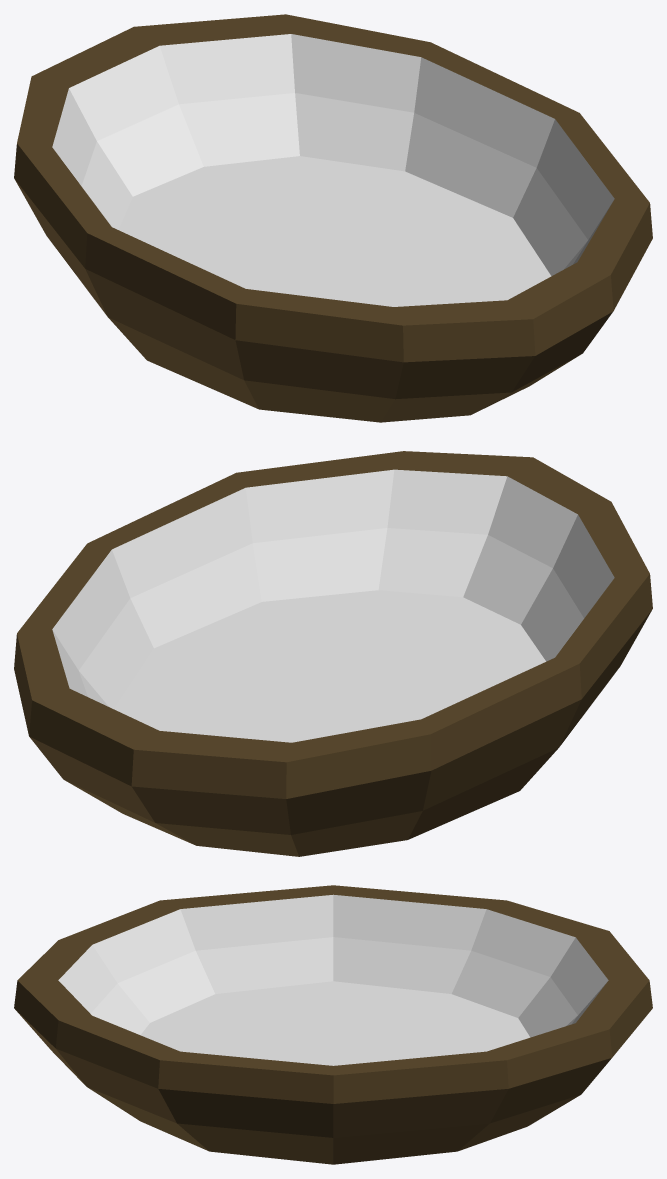
The model's file is boat.glb.
3 renders of one model, top to bottom at view 1: azimuth 30°, elevation 25°; view 2: azimuth 150°, elevation 25°; view 3: azimuth 270°, elevation 25°, orthographic. The views are drawn at different scales.
Visible parts, largest first — view 1: Cube-col; view 2: Cube-col; view 3: Cube-col.
Boxes of the visible parts, x1,y1,x2,y2 form: Cube-col: (14,14,652,422); Cube-col: (14,451,652,856); Cube-col: (14,885,652,1164).
Bounding box in the file's own units: 2.93 × 1 × 4.12.
